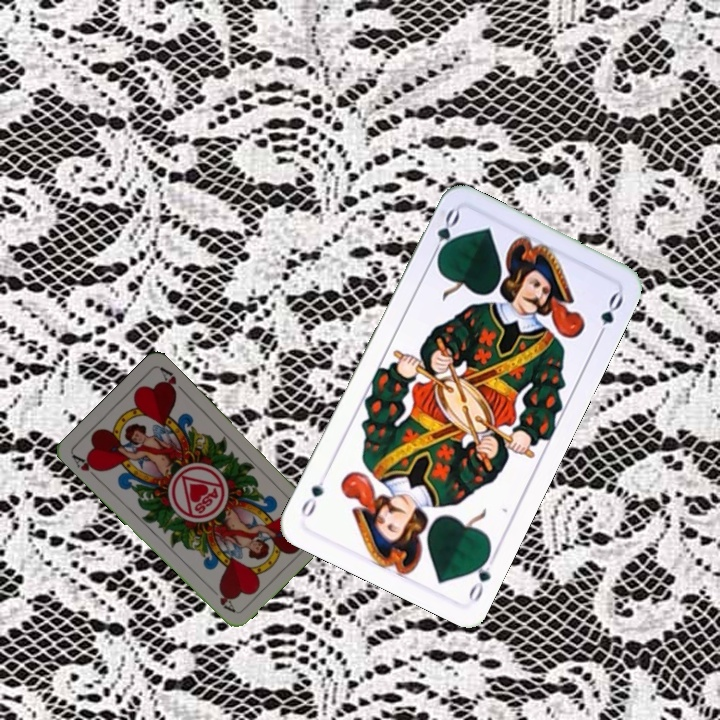GO: (427, 205, 463, 264), (464, 546, 500, 605)
HA: (68, 450, 103, 483)
